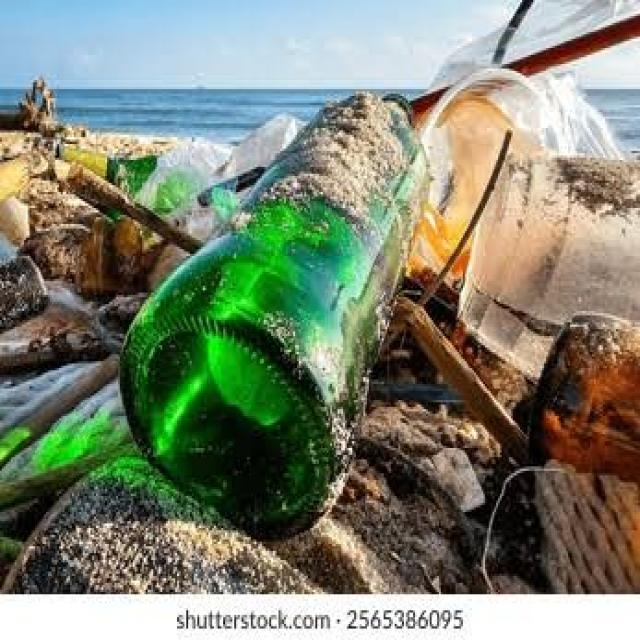glass: (119, 51, 438, 542)
